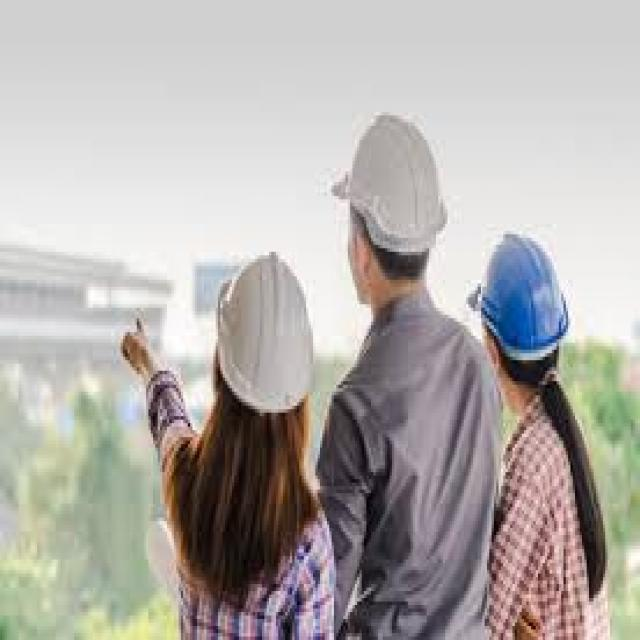Reflective-Jacket: (477, 363, 637, 640)
Safety-Helmet: (199, 238, 327, 427), (332, 101, 454, 262), (464, 220, 580, 374)
